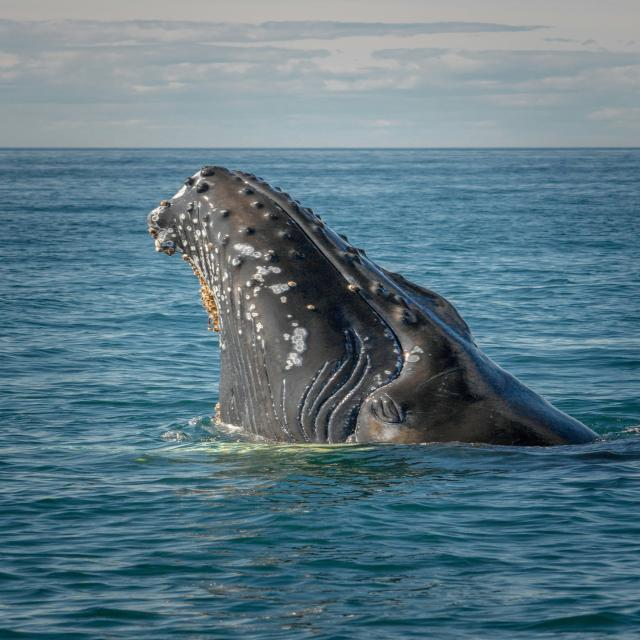jellyfish: (148, 166, 597, 446)
